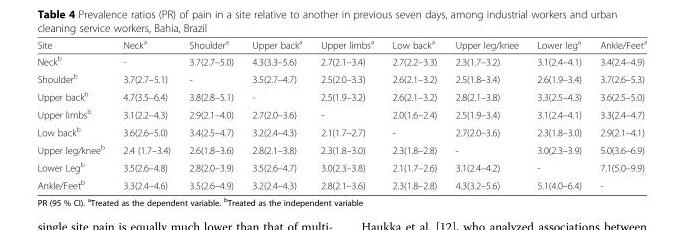table: (36, 37, 646, 190)
table column: (445, 37, 527, 190), (36, 37, 113, 190), (310, 37, 382, 190), (242, 37, 310, 190), (113, 37, 179, 190), (179, 37, 242, 190), (382, 37, 445, 190), (527, 37, 590, 190), (590, 37, 646, 190)
table column header: (36, 37, 646, 52)
table row: (36, 69, 646, 87), (36, 104, 646, 122), (36, 122, 646, 140), (36, 157, 646, 175), (36, 52, 646, 69), (36, 87, 646, 104), (36, 140, 646, 157), (36, 37, 646, 52), (36, 175, 646, 190)
